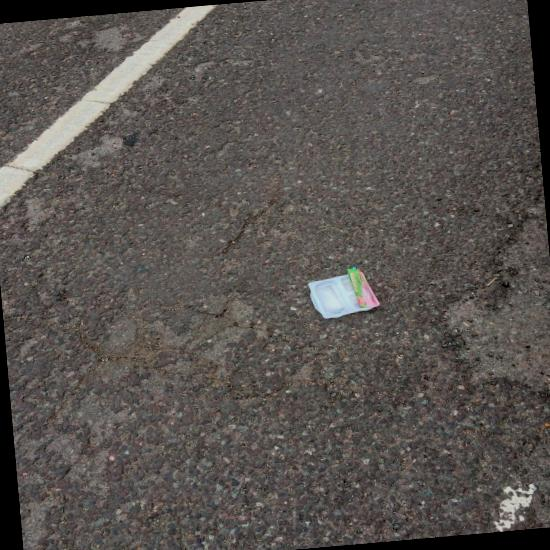Disposable food container: (307, 271, 379, 318)
Plastic film: (346, 267, 379, 307)
